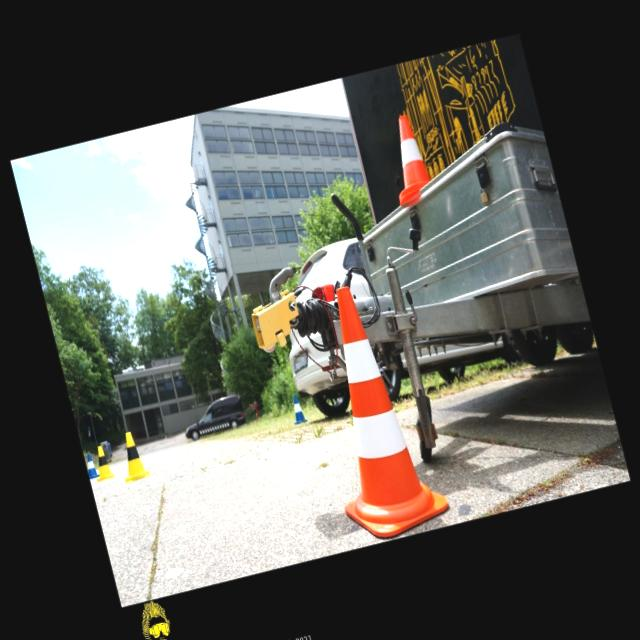blue_cone: (288, 394, 307, 424), (84, 453, 98, 478)
large_orange_cone: (294, 276, 452, 544)
orange_cone: (380, 110, 442, 204)
yellow_cone: (114, 429, 150, 482), (90, 444, 114, 481)
